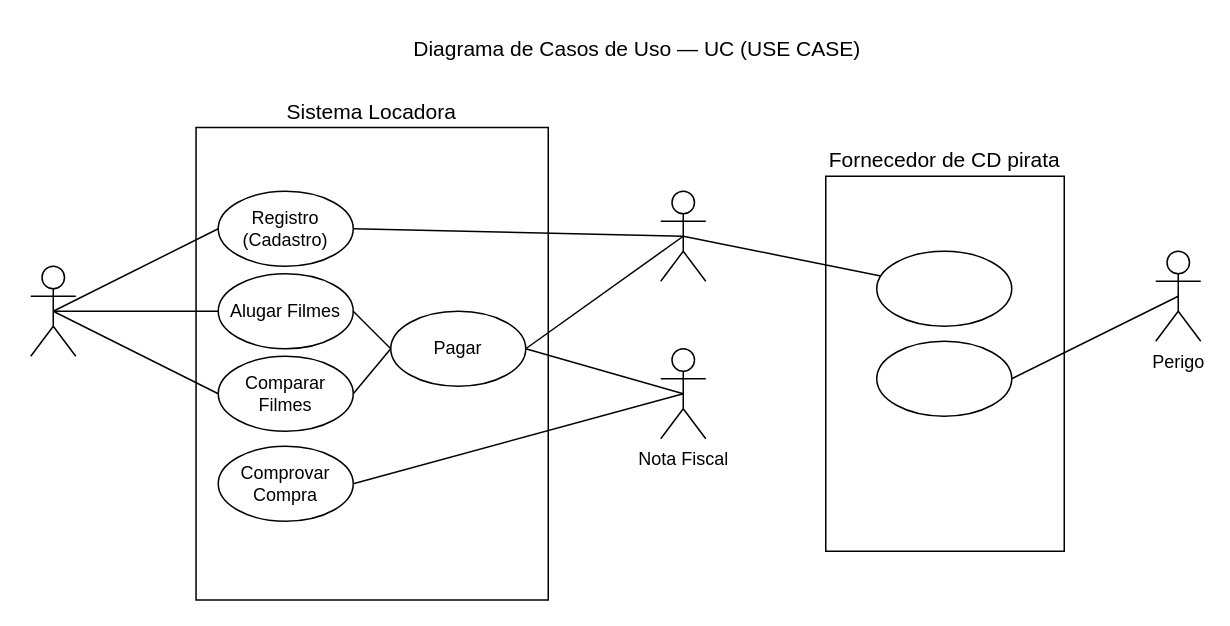
Some shapes in this 1230 by 626 pixel diagram are drawn without their labels. Each missing label, with the box of its shape:
Cliente: (29, 265, 76, 356)
Comprar Filmes: (875, 250, 1012, 326)
Criador de Cds: (875, 340, 1012, 416)
Funcionario: (659, 190, 706, 281)
